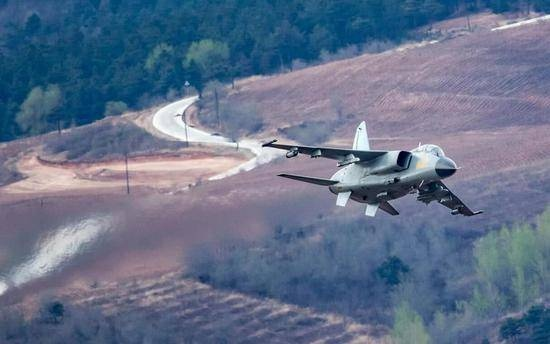airplane: (257, 122, 486, 219)
